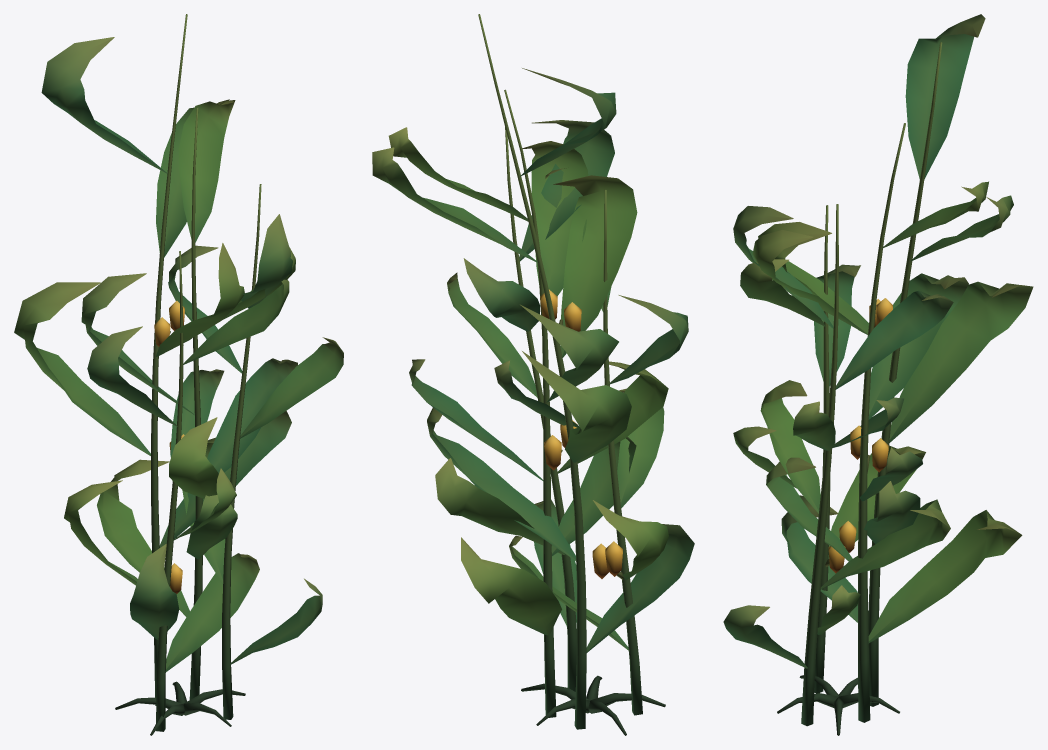
The model's file is kelp.glb.
3 views of the same model, side by side, from view 1: azimuth 30°, elevation 25°; view 2: azimuth 150°, elevation 25°; view 3: azimuth 270°, elevation 25° (orthographic). The views are drawn at different scales.
Visible parts, largest first — view 1: kelp.002; view 2: kelp.002; view 3: kelp.002.
Boxes of the visible parts, bbox=[...] form: kelp.002: bbox=[14, 14, 343, 735]; kelp.002: bbox=[372, 14, 694, 735]; kelp.002: bbox=[723, 14, 1033, 735].
Size of the model in its own units: 2 by 5.36 by 2.17.
